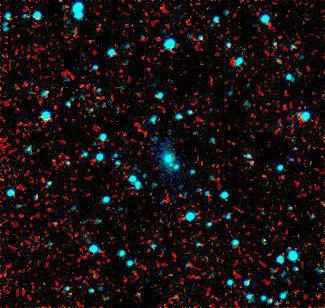star: (156, 151, 186, 181)
